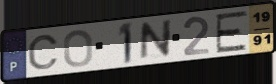1: (117, 22, 135, 65)
2: (181, 15, 213, 57)
C: (26, 34, 60, 71)
E: (214, 9, 249, 54)
N: (138, 18, 174, 62)
O: (62, 28, 95, 69)
